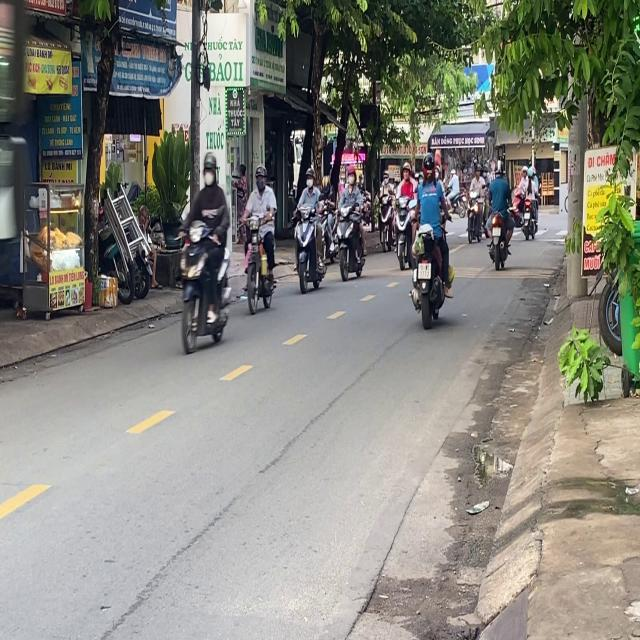helmet: (201, 151, 218, 186), (422, 150, 436, 178), (253, 163, 266, 189), (305, 167, 315, 187)
licenseplate: (175, 151, 233, 353), (408, 147, 454, 326), (240, 162, 279, 312), (291, 166, 327, 294), (336, 163, 368, 280)
nohelmet: (417, 262, 431, 278)
